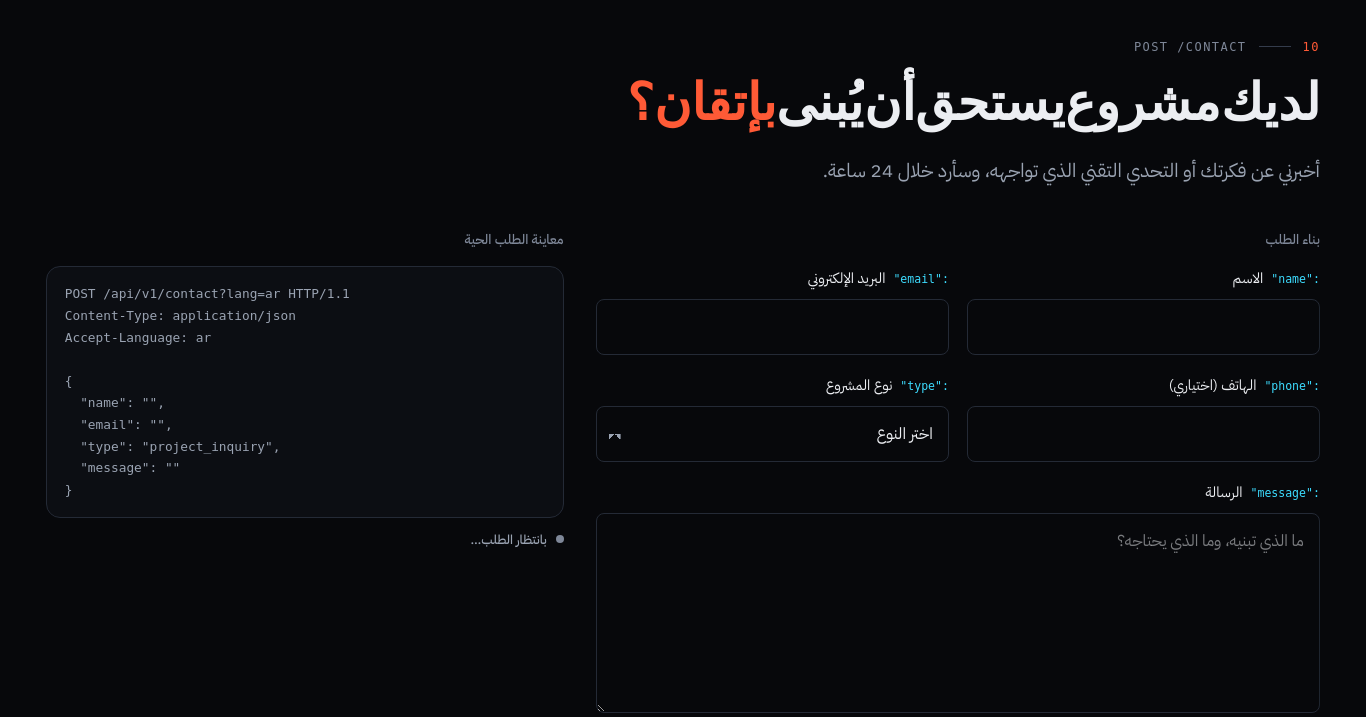
Scenario: Contact form with the live API › posts to the API (no WhatsApp relay) and confirms without any mock notice
Step 1. Type "زائر تجريبي" into the field labelled "\"name\": الاسم" → (1143, 327), box top-left (966, 299), bottom-right (1320, 355)
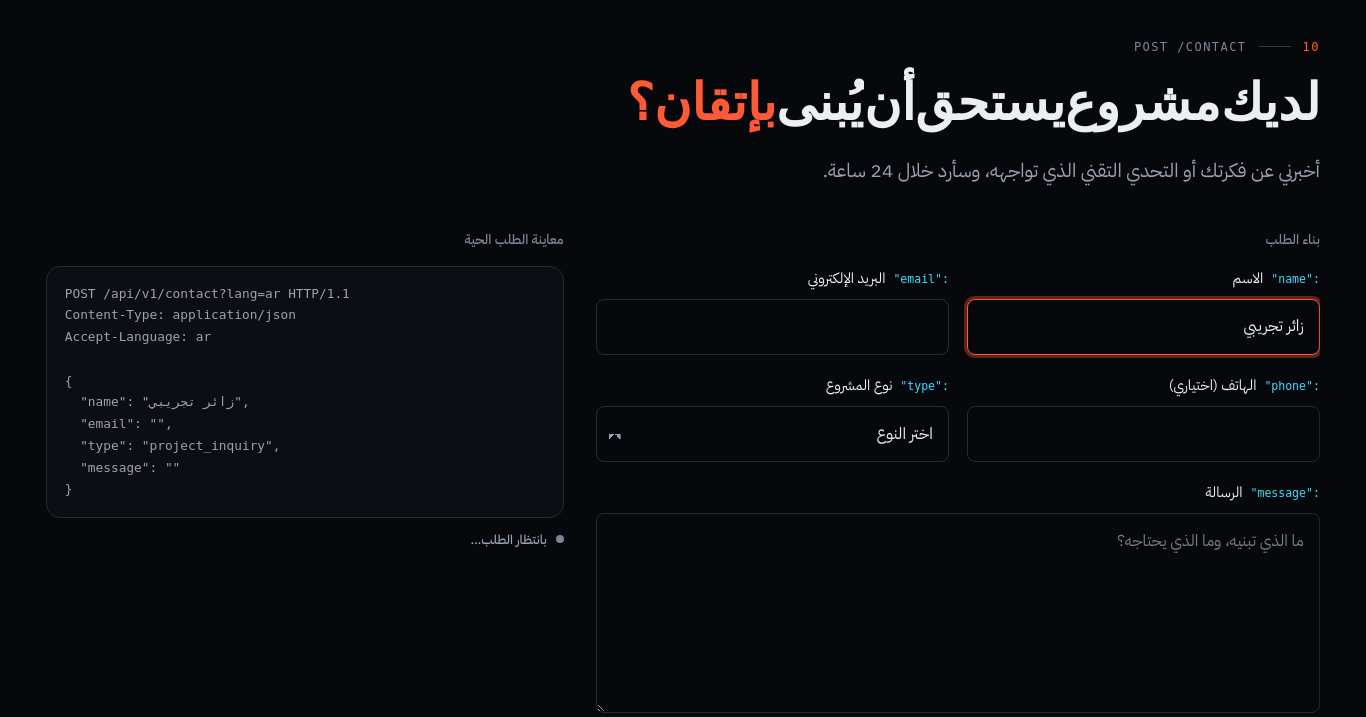
Step 2. Type "visitor@example.com" into the field labelled "\"email\": البريد الإلكتروني" → (772, 327), box top-left (596, 299), bottom-right (949, 355)
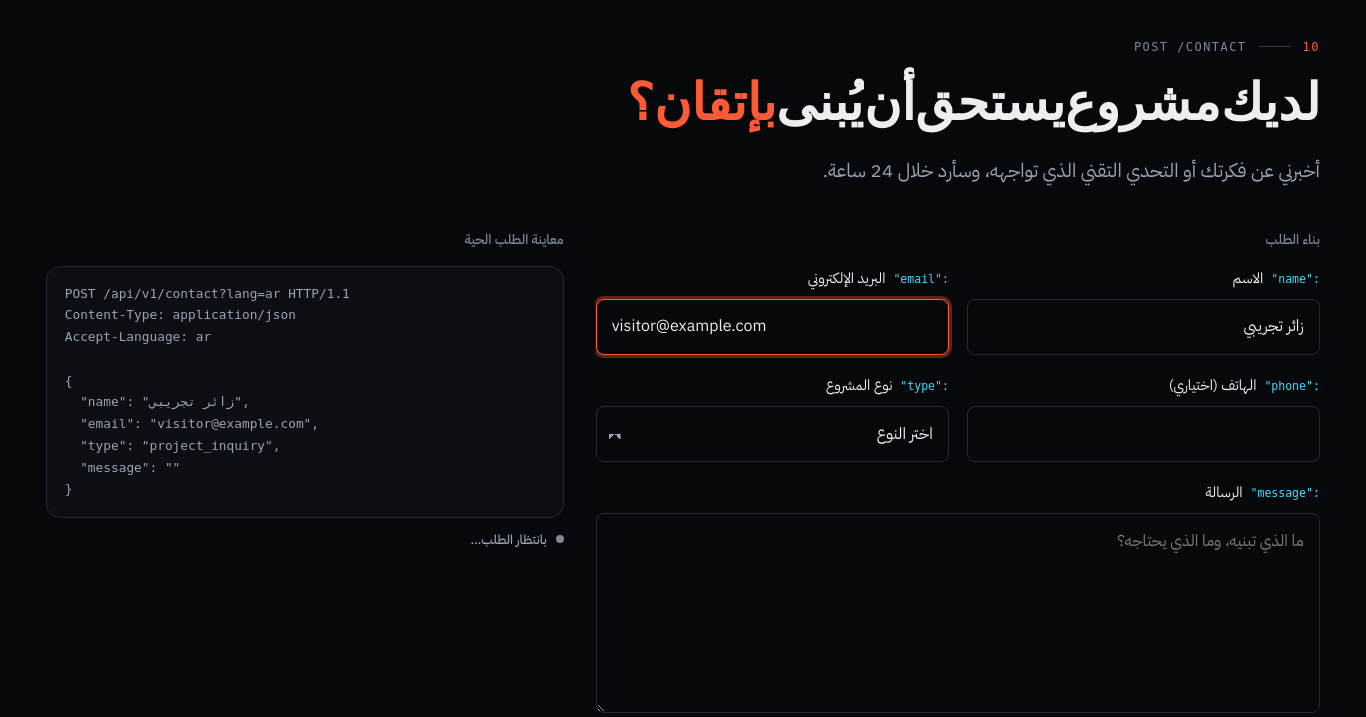
Step 3. Select "تطبيق ويب متكامل" in the dropdown labelled "\"type\": نوع المشروع" → (772, 434), box top-left (596, 406), bottom-right (949, 462)
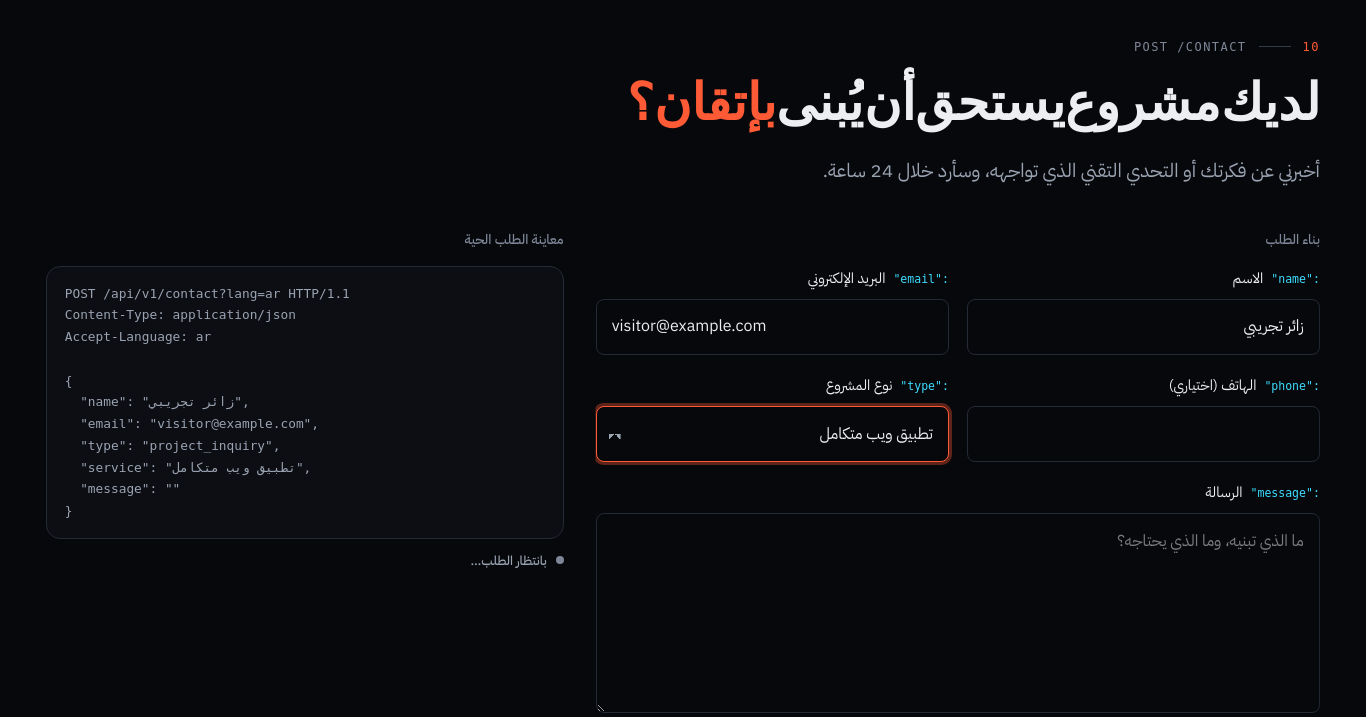
Step 4. Type "نحتاج منصة متكاملة للحجوزات." into the text box labelled "\"message\": الرسالة" → (958, 613), box top-left (596, 513), bottom-right (1320, 713)
(page scrolled)
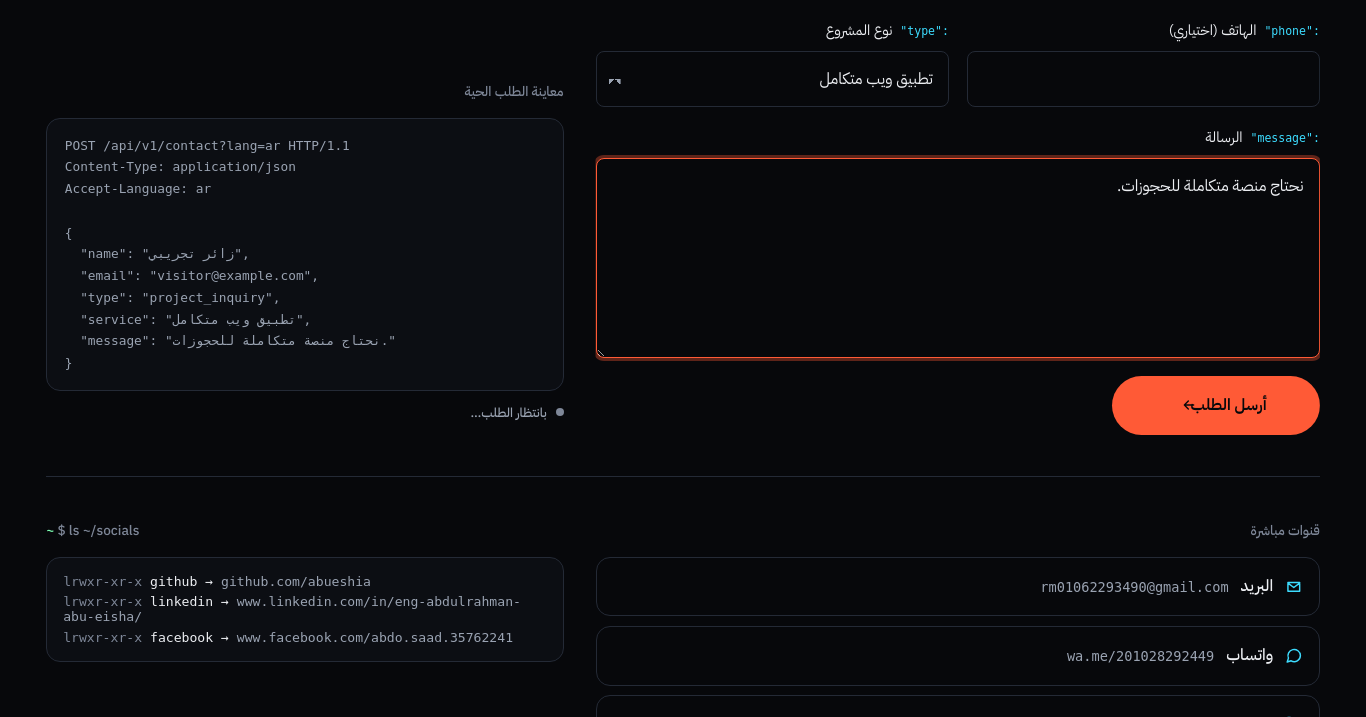
Step 5. Click the button "أرسل الطلب" → click(1216, 405), box top-left (1112, 376), bottom-right (1320, 435)
(page scrolled)
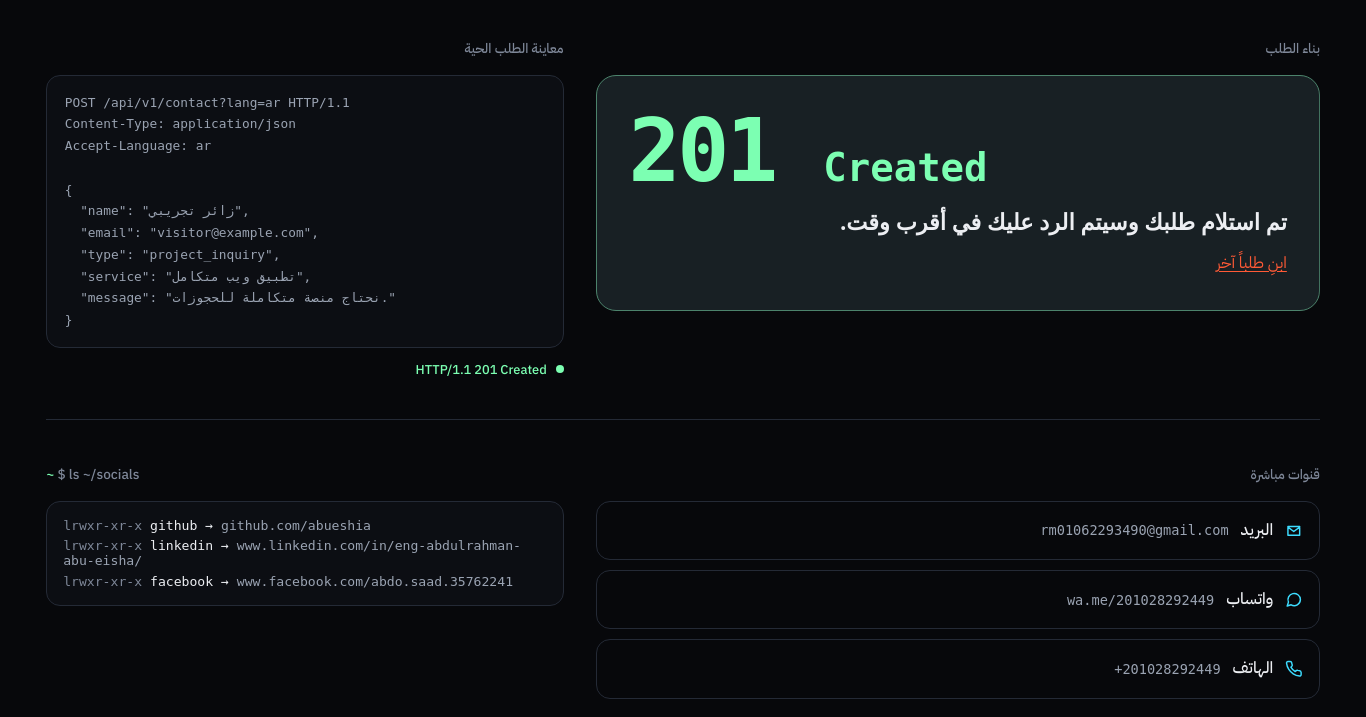
Expected: the text "تم استلام طلبك وسيتم الرد عليك في أقرب وقت." is shown, top-left (840, 206), bottom-right (1287, 237)
